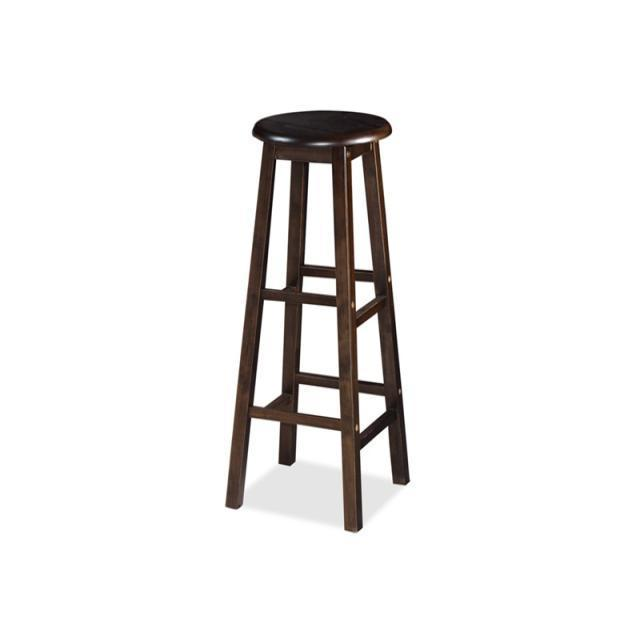chair: (225, 105, 414, 538)
